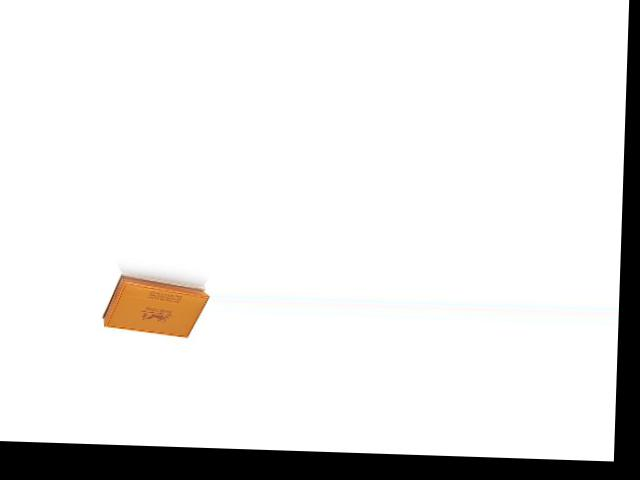chocolate: (99, 265, 209, 341)
